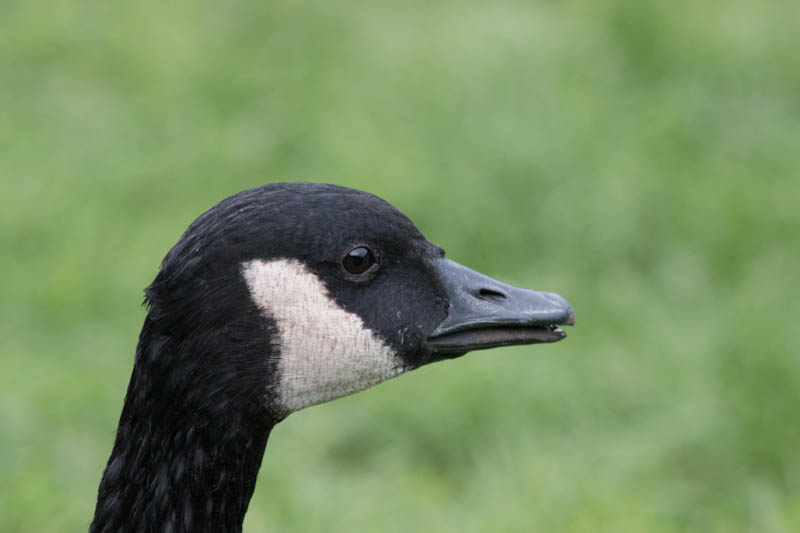goose-head: (148, 183, 575, 426)
